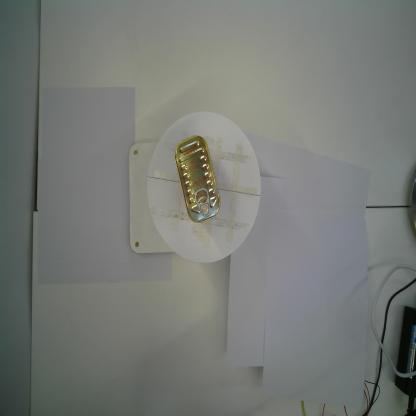Canned Food: (172, 135, 220, 225)
